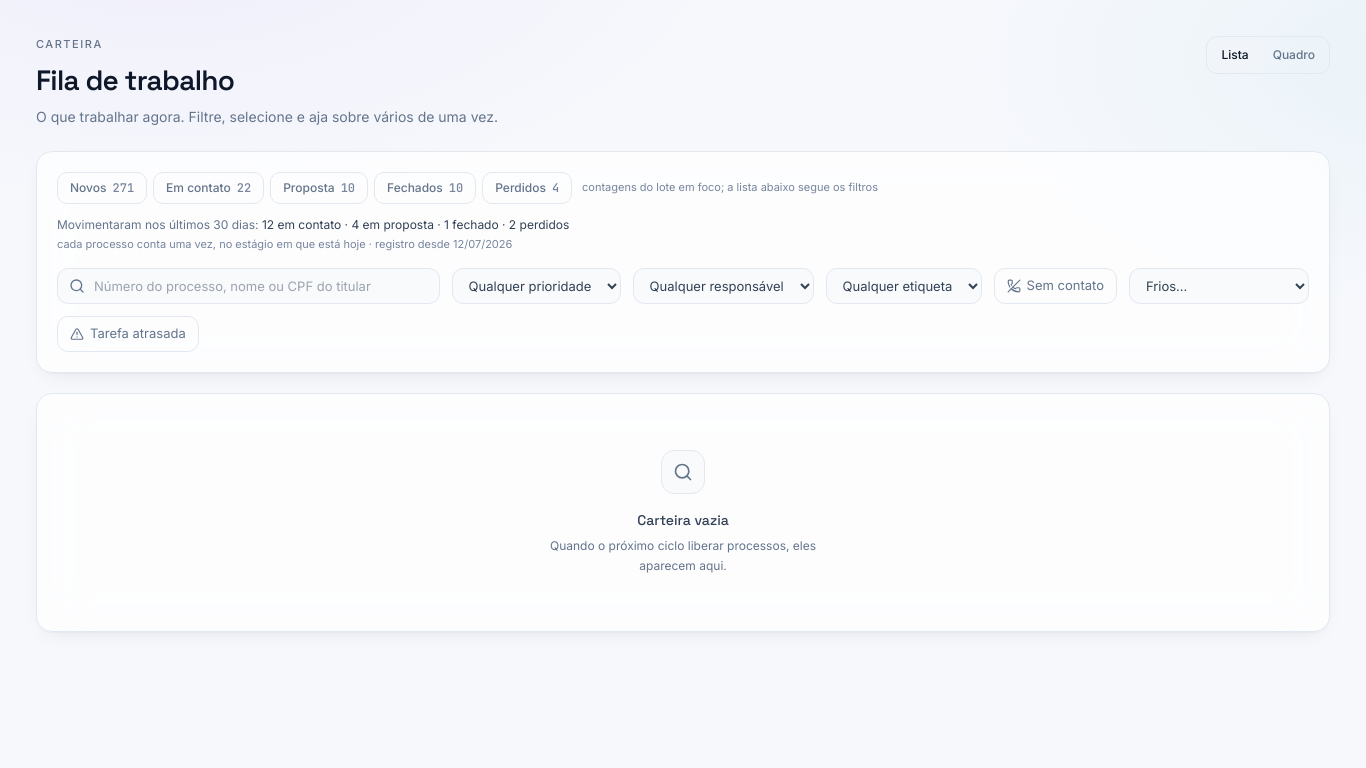
Fila de trabalho › carteira vazia diz por quê: sem filtro é uma coisa, com filtro é outra
expect the text "Carteira vazia" is shown: met, box [637,510,729,530]
Click the button "Novos 271" at (102, 188), box [57,172,147,204]
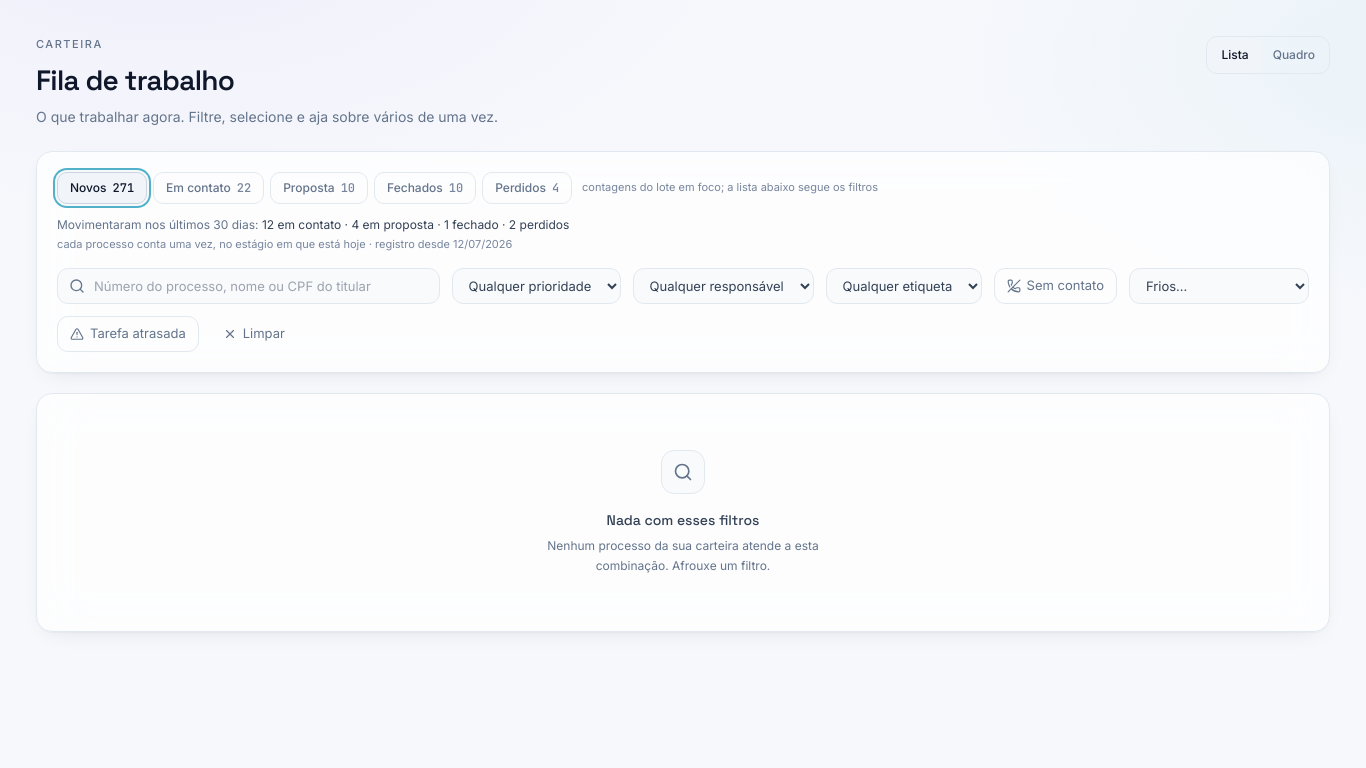
expect the text "Nada com esses filtros" is shown: met, box [607,510,759,530]
